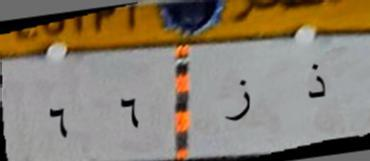6: (44, 101, 73, 145), (116, 92, 143, 133)
zaal: (302, 58, 330, 105)
zay: (220, 68, 256, 127)
